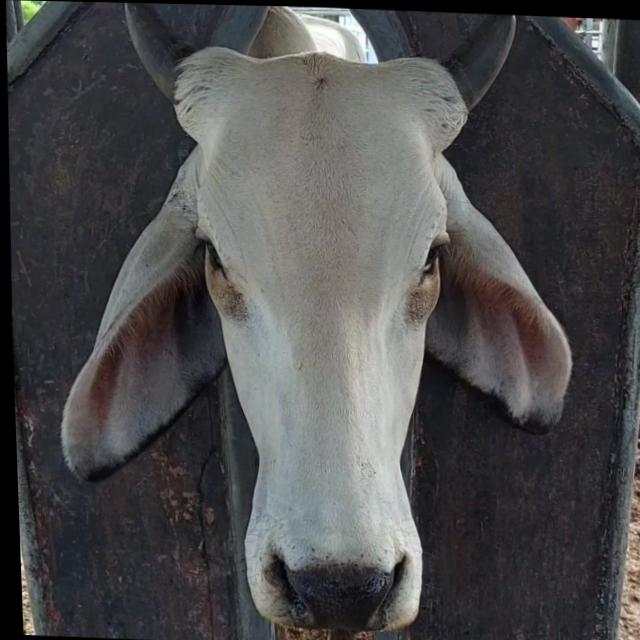cowFace: (184, 47, 456, 628)
